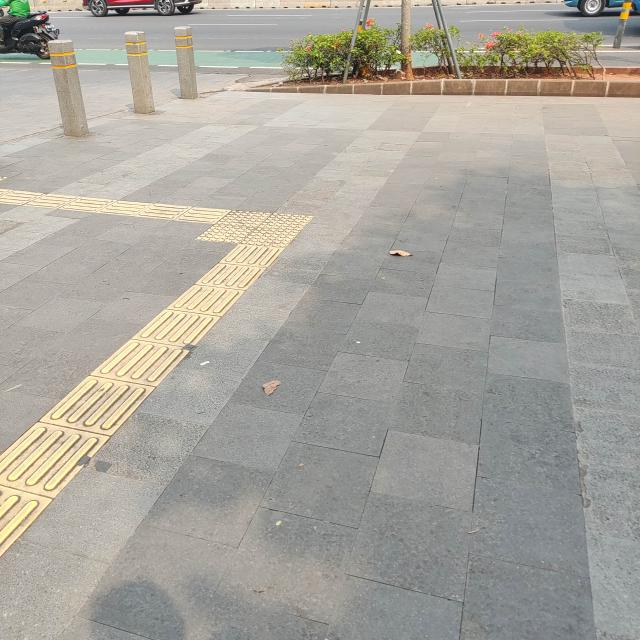kiri: (140, 174, 323, 280)
